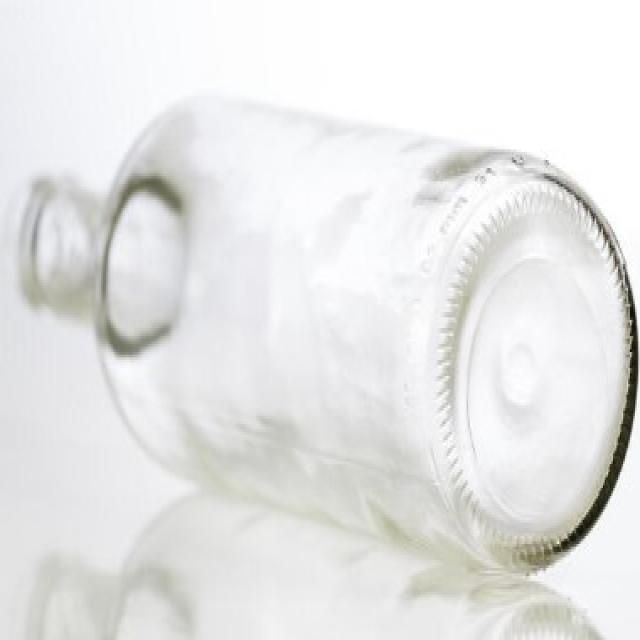electronic: (12, 104, 640, 580)
